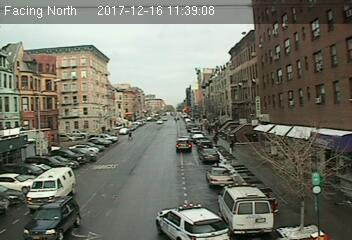car: (24, 196, 82, 236), (206, 166, 235, 187), (199, 147, 220, 163), (176, 137, 191, 152)
police: (151, 201, 234, 240), (220, 181, 275, 233)
truck: (27, 165, 74, 209)
